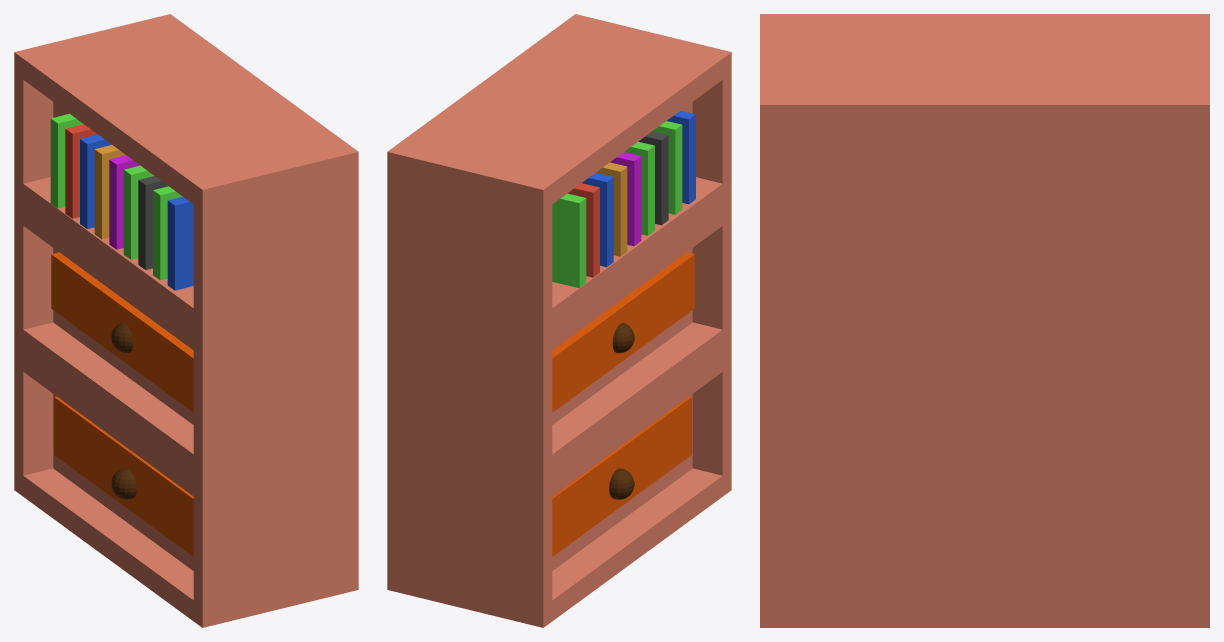
The model's file is book cabinet.fbx.
The picture shows the model from 3 angles, left to right: view 1: azimuth 30°, elevation 25°; view 2: azimuth 150°, elevation 25°; view 3: azimuth 270°, elevation 25°; orthographic projection. The views are drawn at different scales.
Parts seen in each view (by area): view 1: Plane.002; view 2: Plane.002; view 3: Plane.002.
Boxes of the visible parts, <box> form: Plane.002: <box>14,14,358,627</box>; Plane.002: <box>387,14,731,627</box>; Plane.002: <box>760,14,1209,627</box>.
Bounding box in the file's own units: 143 × 183 × 68.45.
